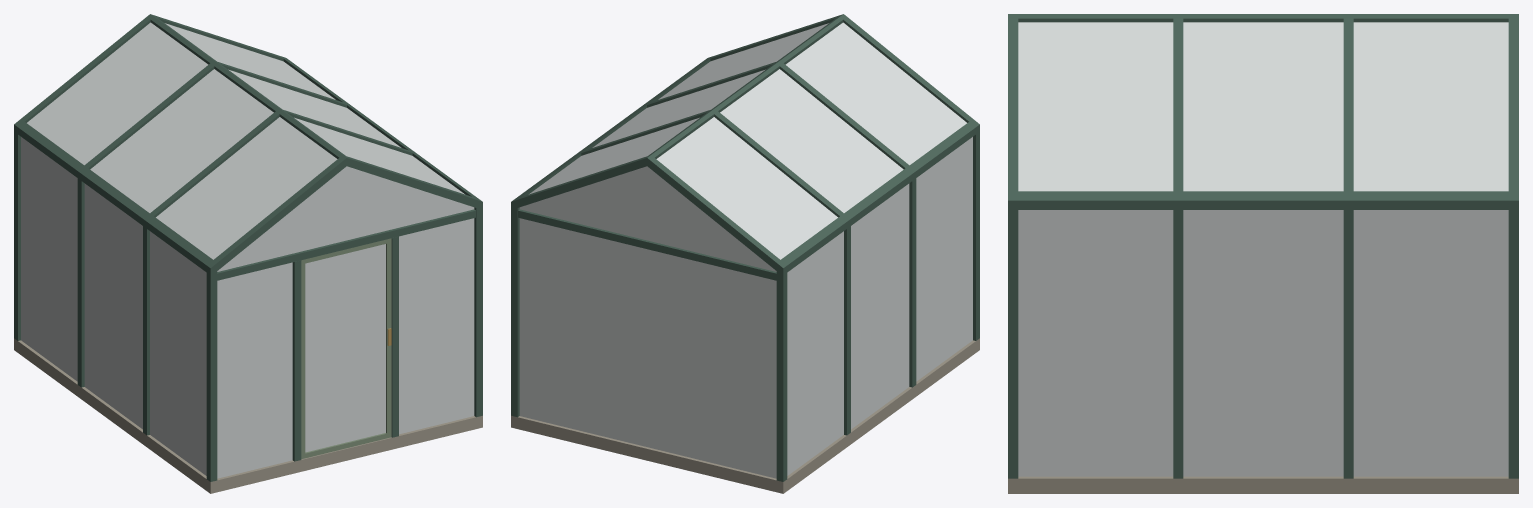
The picture shows the model from 3 angles, left to right: view 1: azimuth 30°, elevation 25°; view 2: azimuth 150°, elevation 25°; view 3: azimuth 270°, elevation 25°; orthographic projection. The views are drawn at different scales.
Parts seen in each view (by area): view 1: FrontDoorFullGlass, FrontLeftFullSidelightGlass, FrontRightFullSidelightGlass, LeftBay2_FullSideGlass, LeftBay1_FullSideGlass, LeftBay3_FullSideGlass, LeftBay2_FullPitchedRoofGlass, LeftBay3_FullPitchedRoofGlass, LeftBay1_FullPitchedRoofGlass, FrontFullGableGlass, Portal1_ContinuousGabledFrame, WholeOpenCentreGroundFooting (+16 smaller); view 2: RearFullLowerWallGlass, LeftBay2_FullSideGlass, LeftBay1_FullSideGlass, LeftBay3_FullSideGlass, LeftBay2_FullPitchedRoofGlass, LeftBay1_FullPitchedRoofGlass, LeftBay3_FullPitchedRoofGlass, RearFullGableGlass, Portal4_ContinuousGabledFrame, WholeOpenCentreGroundFooting, Portal2_ContinuousGabledFrame, Portal1_ContinuousGabledFrame (+11 smaller); view 3: RightBay2_FullSideGlass, RightBay1_FullSideGlass, RightBay3_FullSideGlass, RightBay2_FullPitchedRoofGlass, RightBay1_FullPitchedRoofGlass, RightBay3_FullPitchedRoofGlass, WholeOpenCentreGroundFooting, Portal1_ContinuousGabledFrame, Portal2_ContinuousGabledFrame, Portal3_ContinuousGabledFrame, Portal4_ContinuousGabledFrame, RightBay2_SlopedTopEaveBeam (+5 smaller).
Boxes of the visible parts, x1=… form: FrontDoorFullGlass: x1=305, y1=244, x2=385, y2=452; FrontLeftFullSidelightGlass: x1=217, y1=262, x2=292, y2=478; FrontRightFullSidelightGlass: x1=399, y1=218, x2=474, y2=434; LeftBay2_FullSideGlass: x1=84, y1=183, x2=142, y2=429; LeftBay1_FullSideGlass: x1=150, y1=231, x2=206, y2=475; LeftBay3_FullSideGlass: x1=21, y1=137, x2=77, y2=381; LeftBay2_FullPitchedRoofGlass: x1=90, y1=69, x2=273, y2=212; LeftBay3_FullPitchedRoofGlass: x1=27, y1=22, x2=208, y2=165; LeftBay1_FullPitchedRoofGlass: x1=156, y1=117, x2=337, y2=259; FrontFullGableGlass: x1=217, y1=166, x2=474, y2=271; Portal1_ContinuousGabledFrame: x1=206, y1=155, x2=482, y2=481; WholeOpenCentreGroundFooting: x1=14, y1=338, x2=482, y2=493; RearFullLowerWallGlass: x1=519, y1=218, x2=776, y2=478; LeftBay2_FullSideGlass: x1=851, y1=183, x2=909, y2=429; LeftBay1_FullSideGlass: x1=916, y1=137, x2=972, y2=381; LeftBay3_FullSideGlass: x1=787, y1=231, x2=843, y2=475; LeftBay2_FullPitchedRoofGlass: x1=720, y1=69, x2=903, y2=212; LeftBay1_FullPitchedRoofGlass: x1=785, y1=22, x2=966, y2=165; LeftBay3_FullPitchedRoofGlass: x1=656, y1=117, x2=837, y2=259; RearFullGableGlass: x1=519, y1=166, x2=776, y2=271; Portal4_ContinuousGabledFrame: x1=511, y1=155, x2=787, y2=481; WholeOpenCentreGroundFooting: x1=511, y1=338, x2=979, y2=493; Portal2_ContinuousGabledFrame: x1=641, y1=60, x2=916, y2=387; Portal1_ContinuousGabledFrame: x1=704, y1=14, x2=979, y2=340; RightBay2_FullSideGlass: x1=1183, y1=210, x2=1343, y2=476; RightBay1_FullSideGlass: x1=1018, y1=210, x2=1173, y2=476; RightBay3_FullSideGlass: x1=1353, y1=210, x2=1508, y2=476; RightBay2_FullPitchedRoofGlass: x1=1183, y1=22, x2=1343, y2=191; RightBay1_FullPitchedRoofGlass: x1=1018, y1=22, x2=1173, y2=191; RightBay3_FullPitchedRoofGlass: x1=1353, y1=22, x2=1508, y2=191; WholeOpenCentreGroundFooting: x1=1008, y1=476, x2=1518, y2=493; Portal1_ContinuousGabledFrame: x1=1008, y1=14, x2=1018, y2=478; Portal2_ContinuousGabledFrame: x1=1173, y1=14, x2=1183, y2=478; Portal3_ContinuousGabledFrame: x1=1343, y1=14, x2=1353, y2=478; Portal4_ContinuousGabledFrame: x1=1508, y1=14, x2=1518, y2=478; RightBay2_SlopedTopEaveBeam: x1=1183, y1=191, x2=1343, y2=209.
Size of the model in its own units: 2.4 by 2.55 by 3.
